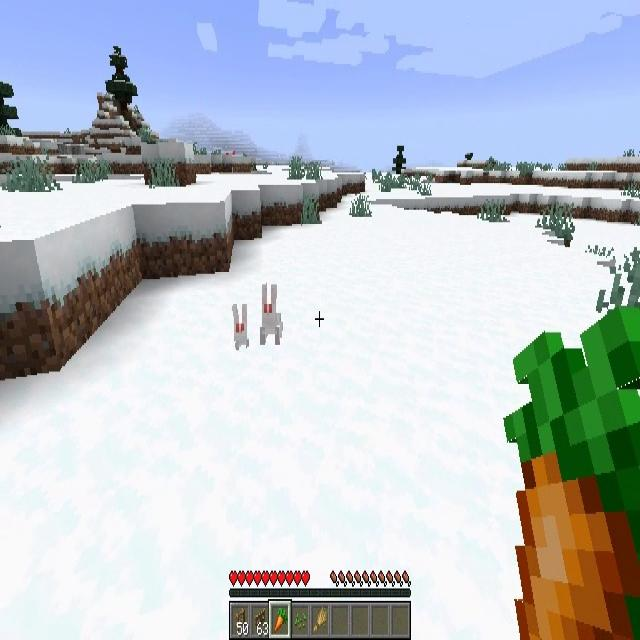rabbit: (260, 282, 284, 346), (233, 304, 249, 350)
